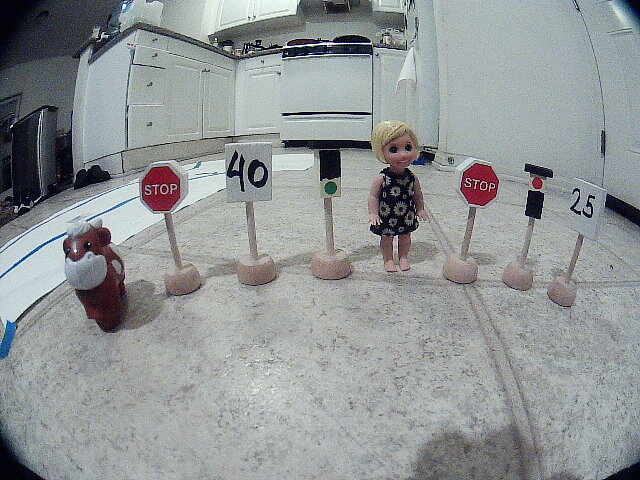Cow: (29, 209, 147, 349)
Green Traffic Light: (300, 137, 362, 211)
Person: (355, 115, 440, 289)
Red Traffic Light: (518, 144, 564, 245)
Speed Limit 25: (563, 172, 616, 264)
Speed Limit 40: (214, 126, 294, 215)
Stop Sign: (445, 142, 511, 229), (127, 159, 202, 221)
